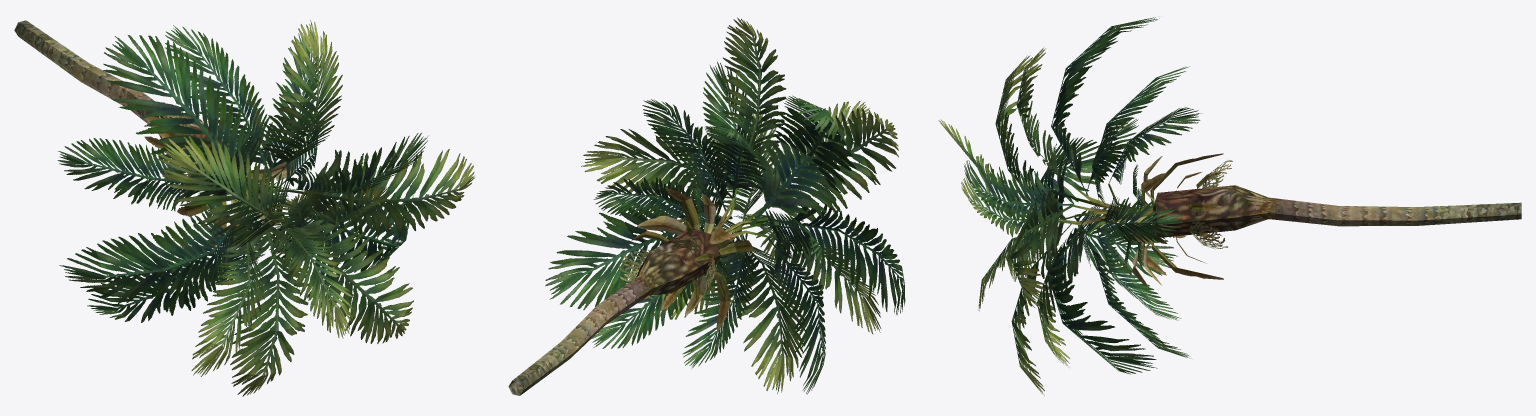
File: rdzw_qm_c_ribenkui.obj
The picture shows the model from 3 angles, left to right: view 1: azimuth 30°, elevation 25°; view 2: azimuth 150°, elevation 25°; view 3: azimuth 270°, elevation 25°; orthographic projection. The views are drawn at different scales.
Visible parts, largest first — view 1: rdzw_qm_c_ribenkui; view 2: rdzw_qm_c_ribenkui; view 3: rdzw_qm_c_ribenkui.
Boxes of the visible parts, x1,y1,x2,y2 form: rdzw_qm_c_ribenkui: (14, 20, 475, 396); rdzw_qm_c_ribenkui: (508, 17, 905, 395); rdzw_qm_c_ribenkui: (938, 17, 1521, 395).
Size of the model in its own units: 283 by 268 by 405.
